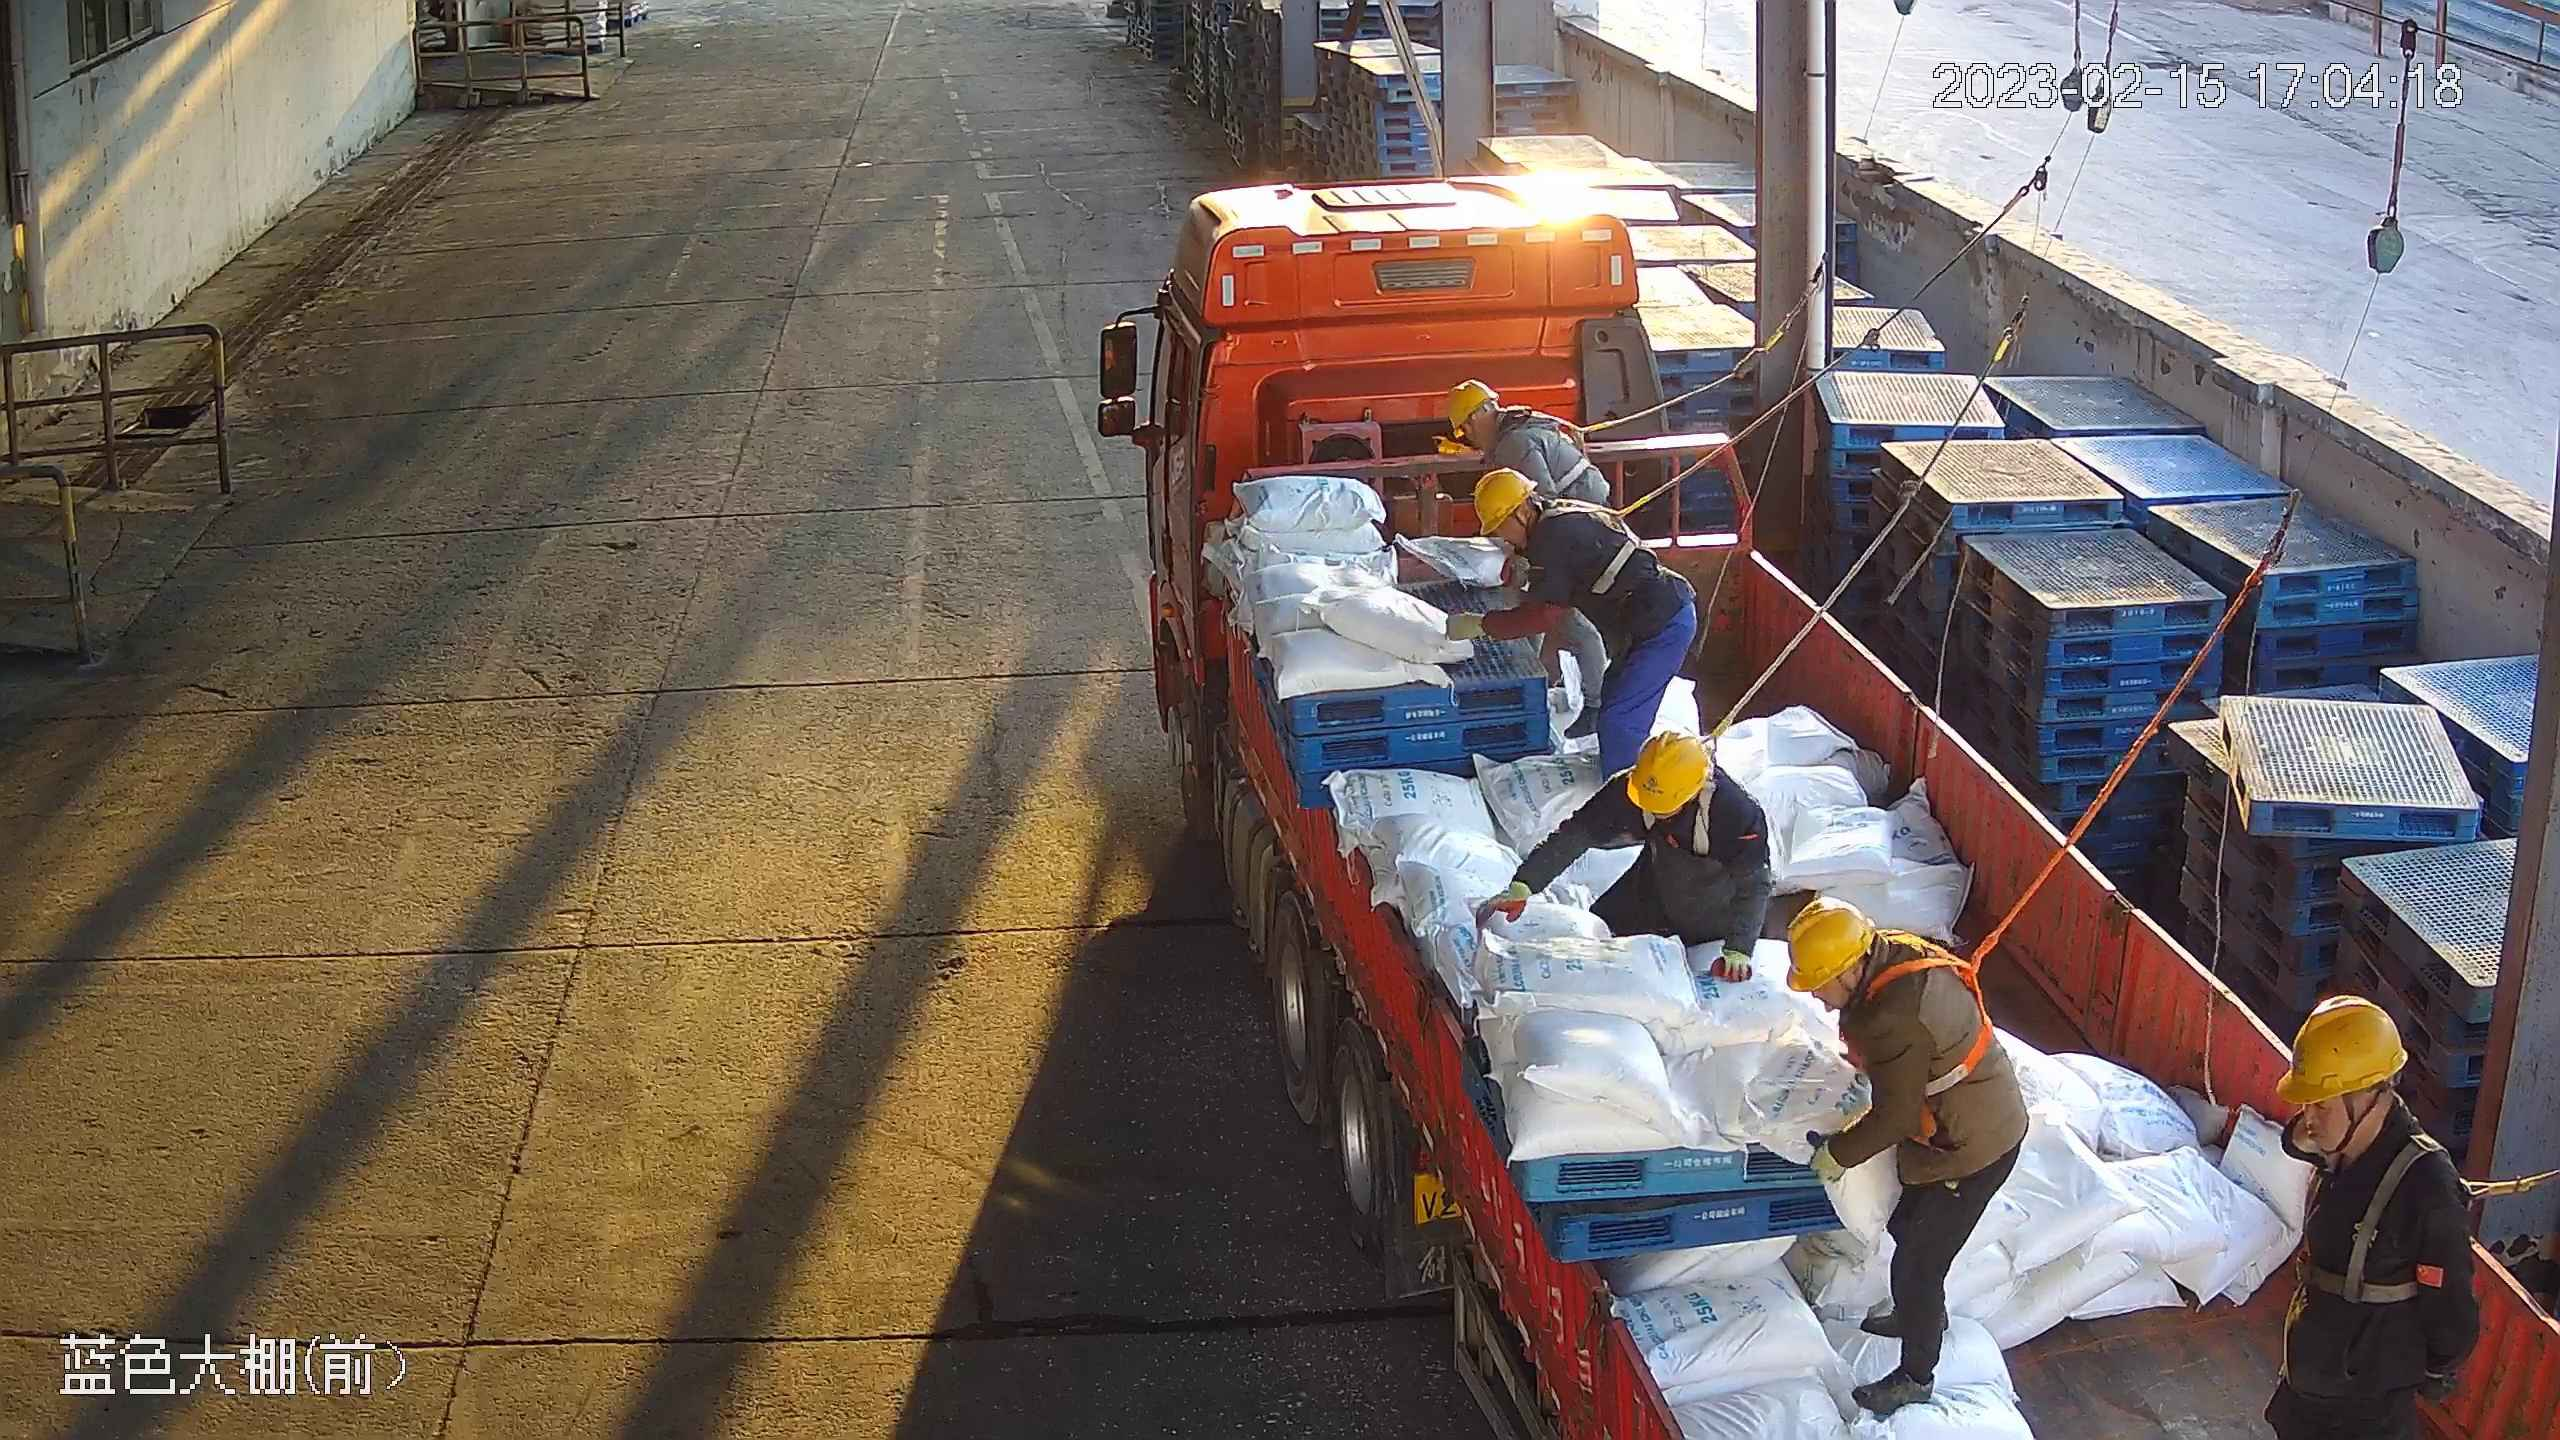belt: (2291, 1133, 2486, 1309), (1837, 930, 2009, 1094), (1614, 714, 1733, 854), (1524, 493, 1663, 598), (1504, 401, 1602, 494)
head: (2275, 990, 2476, 1229), (1784, 894, 1996, 1040), (1596, 727, 1771, 834), (1471, 467, 1644, 554), (1444, 377, 1568, 461)
helmet: (2275, 994, 2408, 1105), (1784, 896, 1877, 993), (1625, 729, 1711, 812), (1471, 468, 1542, 536), (1447, 378, 1499, 439)
people: (1785, 894, 2031, 1416), (2264, 991, 2485, 1440), (1449, 466, 1701, 781), (1472, 730, 1774, 982)
truck: (1139, 170, 2560, 1440)
